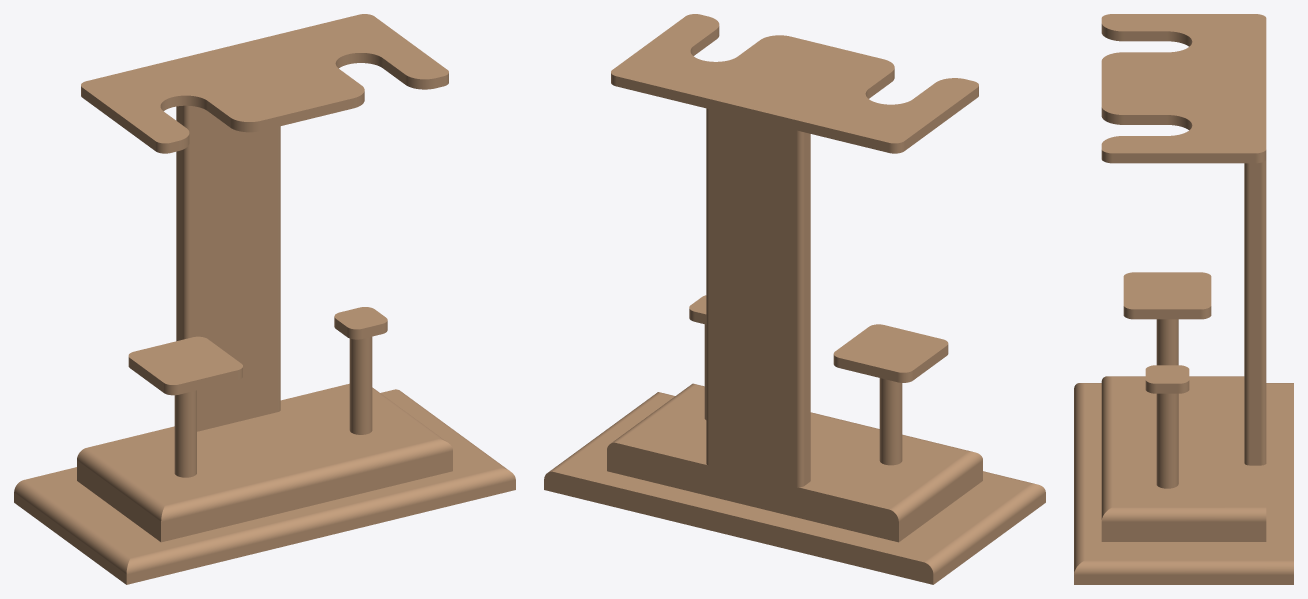
The model's file is executor_bracket.dae.
3 views of the same model, side by side, from view 1: azimuth 30°, elevation 25°; view 2: azimuth 150°, elevation 25°; view 3: azimuth 270°, elevation 25° (orthographic). The views are drawn at different scales.
Parts seen in each view (by area): view 1: node0; view 2: node0; view 3: node0.
Boxes of the visible parts, x1,y1,x2,y2 form: node0: [14, 14, 515, 584]; node0: [544, 14, 1045, 584]; node0: [1074, 14, 1293, 584].
Size of the model in its own units: 0.4 by 0.2 by 0.41.
